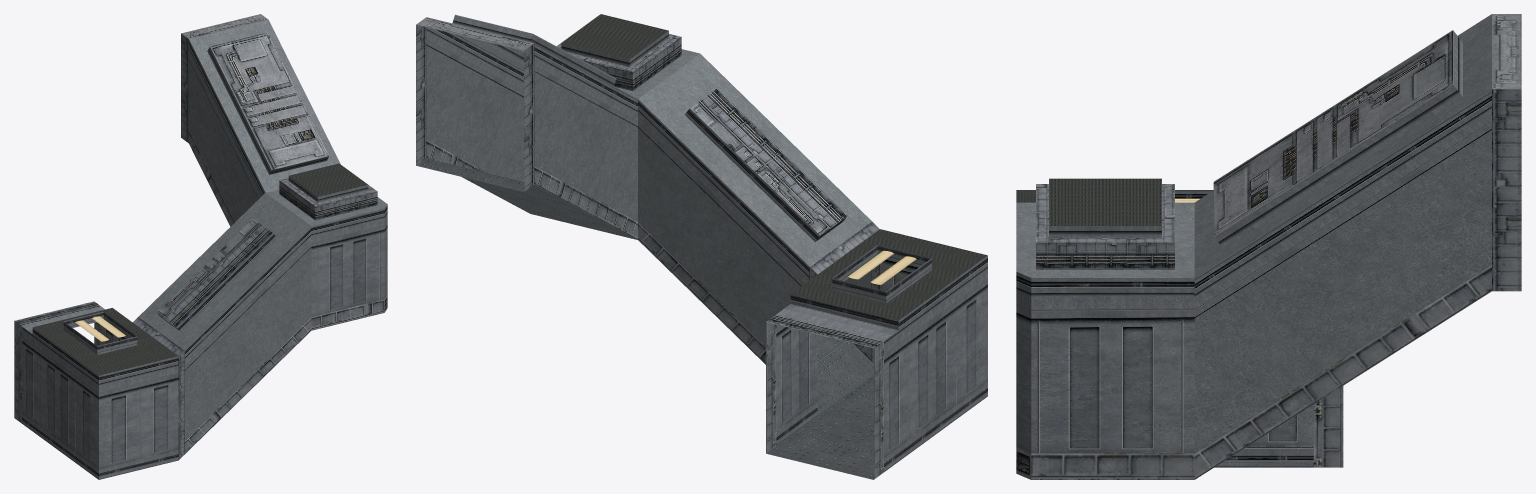
File: poi_all_impl_bunker_s02_r4_ramp1_mesh_r4.fbx
The picture shows the model from 3 angles, left to right: view 1: azimuth 30°, elevation 25°; view 2: azimuth 150°, elevation 25°; view 3: azimuth 270°, elevation 25°; orthographic projection. The views are drawn at different scales.
Parts seen in each view (by area): view 1: mesh_node; view 2: mesh_node; view 3: mesh_node.
Part boxes in pixels (x1=…): mesh_node: x1=14, y1=14, x2=387, y2=479; mesh_node: x1=416, y1=14, x2=987, y2=479; mesh_node: x1=1016, y1=14, x2=1521, y2=479.
Size of the model in its own units: 11 by 10.75 by 8.5.
